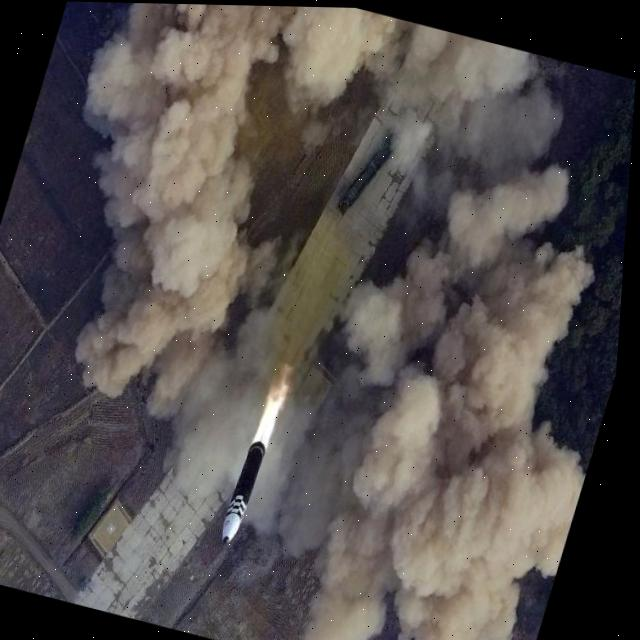missile: (215, 435, 276, 545)
